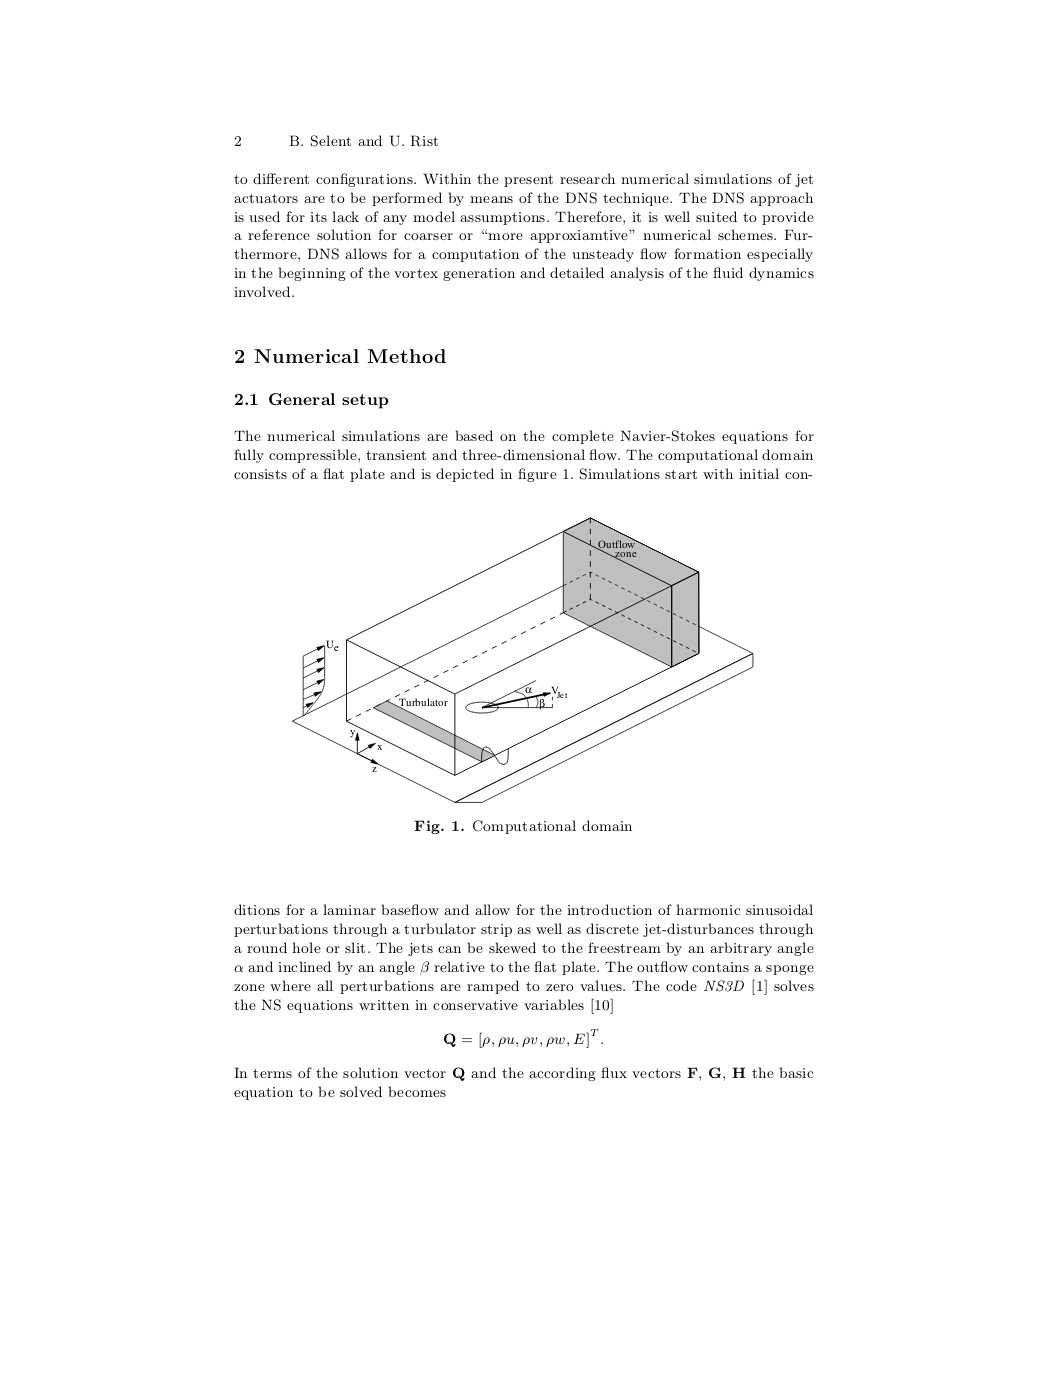figure: (292, 516, 753, 804)
formula: (444, 1028, 602, 1048)
